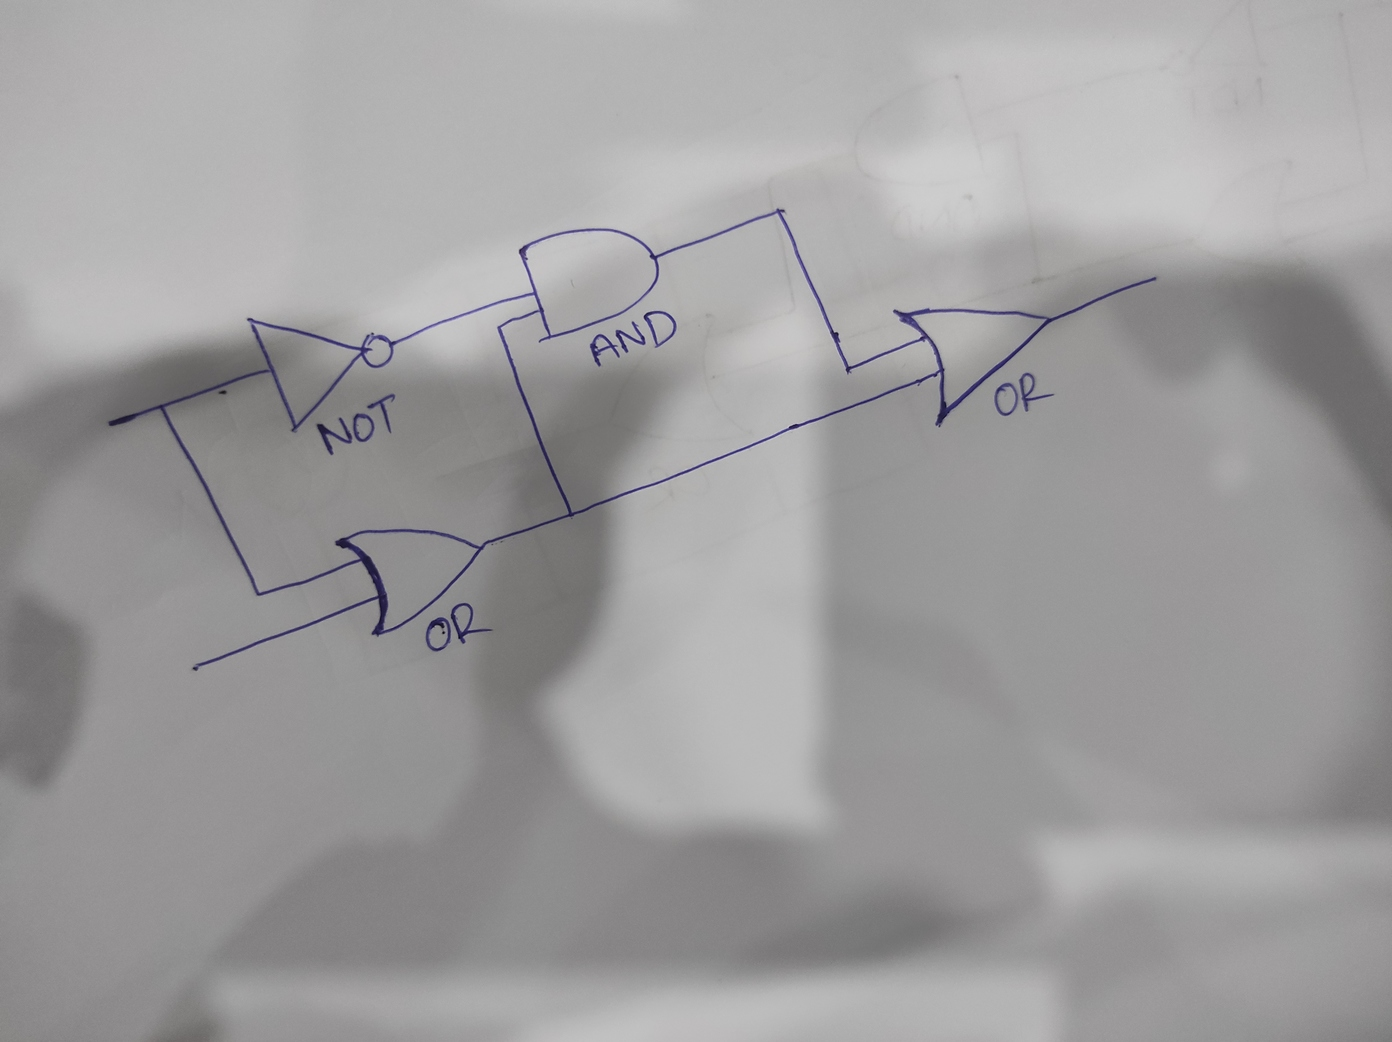and: (517, 224, 663, 345)
junction: (759, 196, 798, 234), (559, 499, 584, 528), (246, 581, 271, 603), (836, 358, 862, 379), (490, 313, 510, 339), (154, 396, 173, 414)
not: (245, 312, 396, 435)
or: (889, 304, 1054, 429), (332, 524, 489, 637)
terminal: (1135, 267, 1167, 292), (183, 655, 210, 676), (103, 416, 123, 431)
text: (315, 392, 399, 458), (587, 308, 678, 367), (422, 599, 495, 655), (990, 373, 1049, 415)
